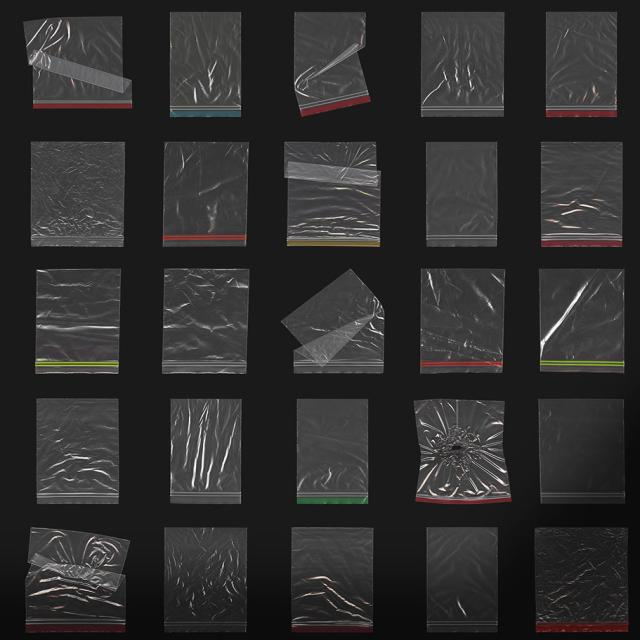Single-layer Plastic: (26, 528, 129, 632), (282, 269, 383, 372), (414, 399, 510, 504), (24, 16, 132, 109), (285, 142, 380, 246), (31, 141, 125, 246), (535, 528, 627, 632), (35, 269, 121, 374), (163, 269, 249, 374), (163, 142, 249, 246), (420, 269, 504, 374), (539, 399, 623, 504), (540, 269, 625, 372), (422, 12, 504, 116), (541, 142, 623, 246), (36, 399, 118, 503), (165, 528, 247, 632), (291, 528, 373, 632), (294, 12, 369, 114), (171, 12, 242, 117), (171, 399, 242, 504), (297, 399, 368, 504), (426, 142, 497, 246), (547, 12, 617, 117), (427, 528, 497, 632)
